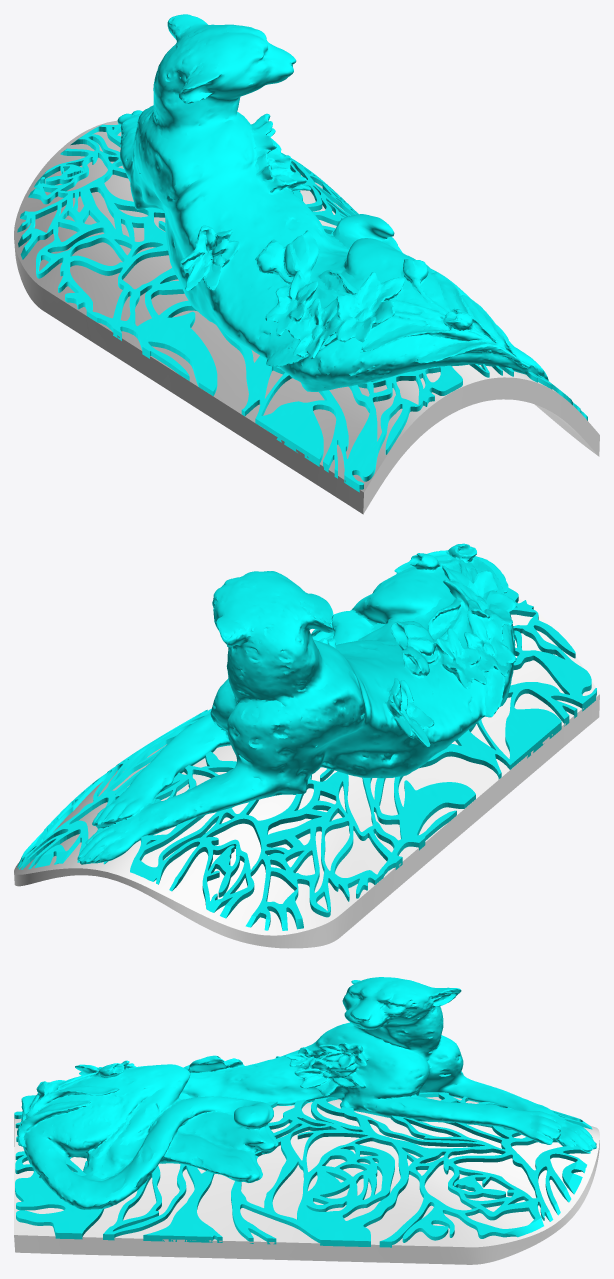
File: leopard-rose-square-full.glb
3 renders of one model, top to bottom at view 1: azimuth 30°, elevation 25°; view 2: azimuth 150°, elevation 25°; view 3: azimuth 270°, elevation 25°, orthographic. The views are drawn at different scales.
Size of the model in its own units: 0.0138 by 0.0126 by 0.0301.
